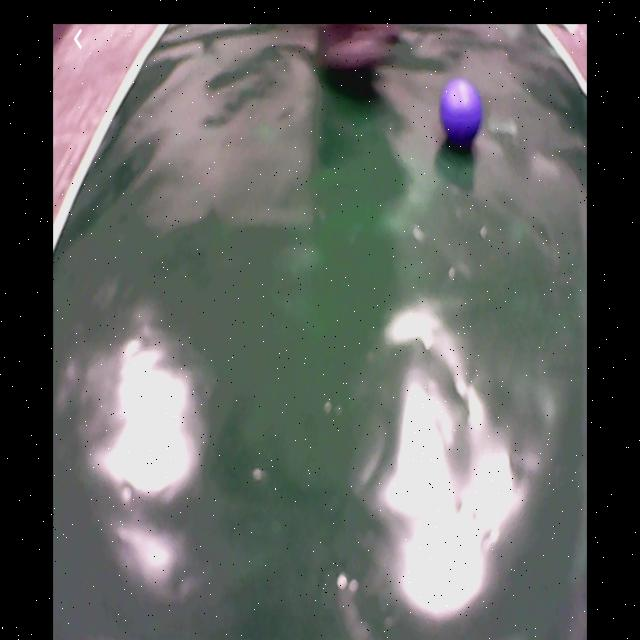ball: (439, 82, 484, 142)
